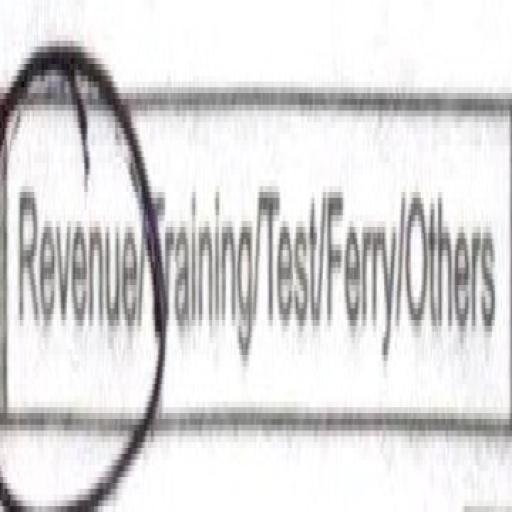check: (0, 6, 149, 512)
